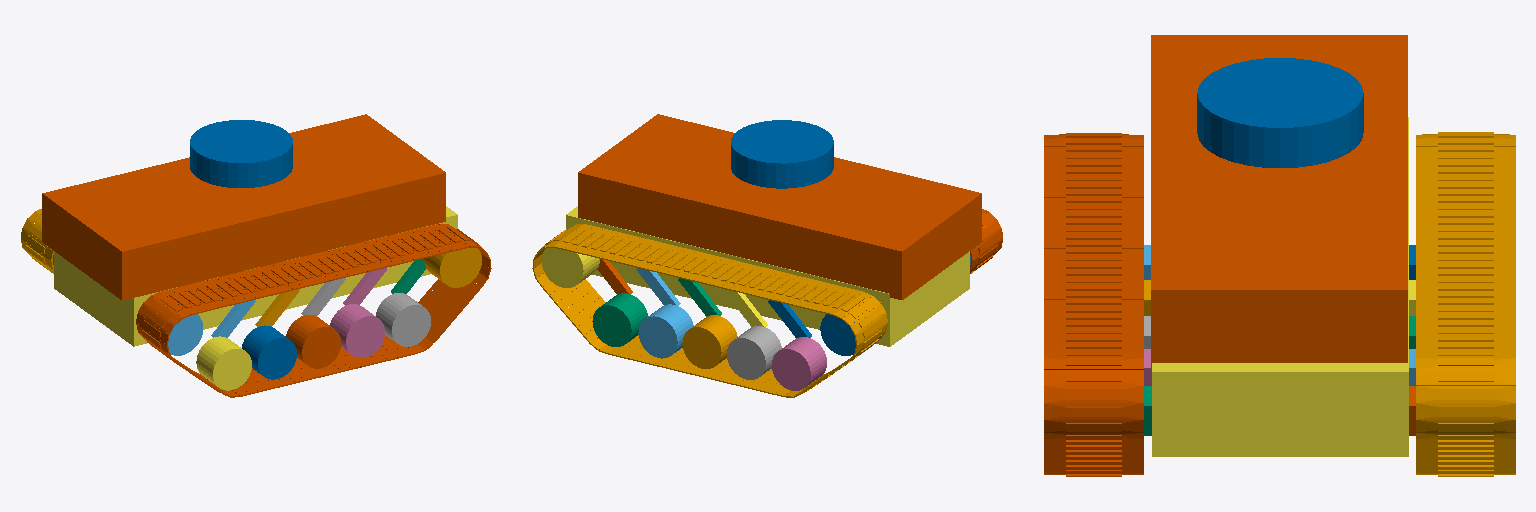
--- What the picture shows (computed from the rendered views, not written in the file) ---
Views: 3 orthographic renders of the robot side by side, from view 1: azimuth 30°, elevation 25°; view 2: azimuth 150°, elevation 25°; view 3: azimuth 270°, elevation 25°.
Model uwaba_prototype with 30 links and 29 joints (10 revolute, 2 continuous, 17 fixed), rooted at base_footprint, posed every joint at zero.
Links seen in each view (by area): view 1: support_link, Right_bumped_treads_link, scan_link, base_link, Right_wheel.001_link, Right_wheel.005_link, Right_wheel.002_link, Right_wheel.003_link, Right_wheel.004_link, Right_wheel.006_link, Left_bumped_treads_link, Right_wheel_sprocket_link (+5 smaller); view 2: support_link, Left_bumped_treads_link, base_link, scan_link, Left_wheel.001_link, Left_wheel.005_link, Left_wheel.002_link, Left_wheel.003_link, Left_wheel.004_link, Left_wheel.006_link, Right_bumped_treads_link, Left_wheel_sprocket_link (+5 smaller); view 3: support_link, Left_bumped_treads_link, Right_bumped_treads_link, base_link, scan_link.
Link boxes in pixels (x1,y1,x2,y2): support_link: (42, 114, 445, 300); Right_bumped_treads_link: (136, 224, 491, 397); scan_link: (190, 120, 292, 187); base_link: (54, 206, 457, 346); Right_wheel.001_link: (196, 336, 251, 390); Right_wheel.005_link: (376, 293, 430, 346); Right_wheel.002_link: (242, 325, 296, 379); Right_wheel.003_link: (286, 315, 340, 368); Right_wheel.004_link: (330, 304, 384, 357); Right_wheel.006_link: (424, 248, 481, 287); Left_bumped_treads_link: (21, 209, 53, 273); Right_wheel_sprocket_link: (157, 313, 202, 355); support_link: (578, 114, 981, 299); Left_bumped_treads_link: (532, 224, 887, 397); base_link: (566, 206, 969, 346); scan_link: (731, 120, 833, 188); Left_wheel.001_link: (772, 337, 826, 390); Left_wheel.005_link: (592, 293, 647, 346); Left_wheel.002_link: (727, 326, 781, 379); Left_wheel.003_link: (682, 315, 737, 368); Left_wheel.004_link: (638, 304, 693, 358); Left_wheel.006_link: (541, 248, 599, 287); Right_bumped_treads_link: (970, 209, 1002, 273); Left_wheel_sprocket_link: (820, 311, 869, 355); support_link: (1151, 35, 1407, 368); Left_bumped_treads_link: (1416, 132, 1515, 476); Right_bumped_treads_link: (1044, 133, 1143, 476); base_link: (1152, 117, 1408, 456); scan_link: (1197, 58, 1363, 167).
Bounding box of the posed robot: 0.2581 × 0.1936 × 0.1352 m (x, y, z).
2 mesh visuals loaded from 2 distinct referenced files (2 Collada DAE).

URDF robot description (uwaba_prototype):
<robot name="uwaba_prototype" version="1.0">
  <joint name="base_footprint_joint" type="fixed">
    <origin rpy="0.0000000000 0.0000000000 0.0000000000" xyz="0.0000000177 0.0000000048 0.0524450019"/>
    <parent link="base_footprint"/>
    <child link="base_link"/>
  </joint>
  <joint name="left_bumped_thread_base_joint" type="fixed">
    <origin rpy="0.0000000000 0.0000000000 0.0000000000" xyz="-0.0000073090 0.0762520012 -0.0125610121"/>
    <parent link="base_link"/>
    <child link="Left_bumped_treads_link"/>
  </joint>
  <joint name="left_sprocket_base_joint" type="continuous">
    <limit lower="0" upper="0" effort="0.0000000000" velocity="0.0000000000"/>
    <origin rpy="0.0000000000 0.0000000000 0.0000000000" xyz="-0.1065520449 0.0762500119 0.0002469979"/>
    <parent link="base_link"/>
    <child link="Left_wheel_sprocket_link"/>
    <axis xyz="0.0000000000 1.0000000000 0.0000000000"/>
  </joint>
  <joint name="left_suspension.001_base_joint" type="revolute">
    <limit lower="-0.1745329946" upper="0.1745329946" effort="0.0000000000" velocity="0.0000000000"/>
    <origin rpy="0.0000000000 0.0000000000 0.0000000000" xyz="0.0515604214 0.0552990314 -0.0151900463"/>
    <parent link="base_link"/>
    <child link="Left_small_wheels_frame.001_link"/>
    <axis xyz="0.0000000000 1.0000000000 0.0000000000"/>
  </joint>
  <joint name="left_suspension.002_base_joint" type="revolute">
    <limit lower="-0.1745329946" upper="0.1745329946" effort="0.0000000000" velocity="0.0000000000"/>
    <origin rpy="0.0000000000 0.0000000000 0.0000000000" xyz="0.0197104206 0.0552989979 -0.0151902959"/>
    <parent link="base_link"/>
    <child link="Left_small_wheels_frame.002_link"/>
    <axis xyz="0.0000000000 1.0000000000 0.0000000000"/>
  </joint>
  <joint name="left_suspension.003_base_joint" type="revolute">
    <limit lower="-0.1745329946" upper="0.1745329946" effort="0.0000000000" velocity="0.0000000000"/>
    <origin rpy="0.0000000000 0.0000000000 0.0000000000" xyz="-0.0153435795 0.0552989904 -0.0151902996"/>
    <parent link="base_link"/>
    <child link="Left_small_wheels_frame.003_link"/>
    <axis xyz="0.0000000000 1.0000000000 0.0000000000"/>
  </joint>
  <joint name="left_suspension.004_base_joint" type="revolute">
    <limit lower="-0.1745329946" upper="0.1745329946" effort="0.0000000000" velocity="0.0000000000"/>
    <origin rpy="0.0000000000 0.0000000000 0.0000000000" xyz="-0.0490785828 0.0552990314 -0.0151903071"/>
    <parent link="base_link"/>
    <child link="Left_small_wheels_frame.004_link"/>
    <axis xyz="0.0000000000 1.0000000000 0.0000000000"/>
  </joint>
  <joint name="left_suspension_base_joint" type="revolute">
    <limit lower="-0.1745329946" upper="0.1745329946" effort="0.0000000000" velocity="0.0000000000"/>
    <origin rpy="0.0000000000 0.0000000000 0.0000000000" xyz="0.0879334183 0.0552990426 -0.0151902996"/>
    <parent link="base_link"/>
    <child link="Left_small_wheels_frame_link"/>
    <axis xyz="0.0000000000 1.0000000000 0.0000000000"/>
  </joint>
  <joint name="left_wheel.001_suspension_joint" type="fixed">
    <origin rpy="-0.0000000000 0.0000000000 0.0000000000" xyz="-0.0191554390 0.0209509283 -0.0199896954"/>
    <parent link="Left_small_wheels_frame.004_link"/>
    <child link="Left_wheel.001_link"/>
  </joint>
  <joint name="left_wheel.002_suspension_joint" type="fixed">
    <origin rpy="-0.0000000000 0.0000000000 0.0000000000" xyz="-0.0184964389 0.0209509470 -0.0199897066"/>
    <parent link="Left_small_wheels_frame.003_link"/>
    <child link="Left_wheel.002_link"/>
  </joint>
  <joint name="left_wheel.003_suspension_joint" type="fixed">
    <origin rpy="-0.0000000000 0.0000000000 0.0000000000" xyz="-0.0197104495 0.0209509693 -0.0199897159"/>
    <parent link="Left_small_wheels_frame.002_link"/>
    <child link="Left_wheel.003_link"/>
  </joint>
  <joint name="left_wheel.004_suspension_joint" type="fixed">
    <origin rpy="-0.0000000000 0.0000000000 0.0000000000" xyz="-0.0179914646 0.0209509209 -0.0199899562"/>
    <parent link="Left_small_wheels_frame.001_link"/>
    <child link="Left_wheel.004_link"/>
  </joint>
  <joint name="left_wheel.005_suspension_joint" type="fixed">
    <origin rpy="-0.0000000000 0.0000000000 0.0000000000" xyz="-0.0192444250 0.0209509395 -0.0199897159"/>
    <parent link="Left_small_wheels_frame_link"/>
    <child link="Left_wheel.005_link"/>
  </joint>
  <joint name="left_wheel.006_base_joint" type="fixed">
    <origin rpy="0.0000000000 0.0000000000 0.0000000000" xyz="0.1065519945 0.0762500119 0.0002470016"/>
    <parent link="base_link"/>
    <child link="Left_wheel.006_link"/>
  </joint>
  <joint name="right_bumped_thread_base_joint" type="fixed">
    <origin rpy="0.0000000000 0.0000000000 0.0000000000" xyz="0.0000440089 -0.0765780109 -0.0125610270"/>
    <parent link="base_link"/>
    <child link="Right_bumped_treads_link"/>
  </joint>
  <joint name="right_sprocket_base_joint" type="continuous">
    <limit lower="0" upper="0" effort="0.0000000000" velocity="0.0000000000"/>
    <origin rpy="0.0000000000 0.0000000000 0.0000000000" xyz="-0.1065520300 -0.0762500215 0.0002470128"/>
    <parent link="base_link"/>
    <child link="Right_wheel_sprocket_link"/>
    <axis xyz="0.0000000000 1.0000000000 0.0000000000"/>
  </joint>
  <joint name="right_suspension.001_base_joint" type="revolute">
    <limit lower="-0.1745329946" upper="0.1745329946" effort="0.0000000000" velocity="0.0000000000"/>
    <origin rpy="0.0000000000 0.0000000000 0.0000000000" xyz="0.0515604140 -0.0552989628 -0.0151902884"/>
    <parent link="base_link"/>
    <child link="Right_small_wheels_frame.001_link"/>
    <axis xyz="0.0000000000 1.0000000000 0.0000000000"/>
  </joint>
  <joint name="right_suspension.002_base_joint" type="revolute">
    <limit lower="-0.1745329946" upper="0.1745329946" effort="0.0000000000" velocity="0.0000000000"/>
    <origin rpy="0.0000000000 0.0000000000 0.0000000000" xyz="0.0197104187 -0.0552990224 -0.0151902996"/>
    <parent link="base_link"/>
    <child link="Right_small_wheels_frame.002_link"/>
    <axis xyz="0.0000000000 1.0000000000 0.0000000000"/>
  </joint>
  <joint name="right_suspension.003_base_joint" type="revolute">
    <limit lower="-0.1745329946" upper="0.1745329946" effort="0.0000000000" velocity="0.0000000000"/>
    <origin rpy="0.0000000000 0.0000000000 0.0000000000" xyz="-0.0153435786 -0.0552990075 -0.0151903033"/>
    <parent link="base_link"/>
    <child link="Right_small_wheels_frame.003_link"/>
    <axis xyz="0.0000000000 1.0000000000 0.0000000000"/>
  </joint>
  <joint name="right_suspension.004_base_joint" type="revolute">
    <limit lower="-0.1745329946" upper="0.1745329946" effort="0.0000000000" velocity="0.0000000000"/>
    <origin rpy="0.0000000000 0.0000000000 0.0000000000" xyz="-0.0490785791 -0.0552989665 -0.0151903071"/>
    <parent link="base_link"/>
    <child link="Right_small_wheels_frame.004_link"/>
    <axis xyz="0.0000000000 1.0000000000 0.0000000000"/>
  </joint>
  <joint name="right_suspension_base_joint" type="revolute">
    <limit lower="-0.1745329946" upper="0.1745329946" effort="0.0000000000" velocity="0.0000000000"/>
    <origin rpy="0.0000000000 0.0000000000 0.0000000000" xyz="0.0879334183 -0.0552989665 -0.0151903033"/>
    <parent link="base_link"/>
    <child link="Right_small_wheels_frame_link"/>
    <axis xyz="0.0000000000 1.0000000000 0.0000000000"/>
  </joint>
  <joint name="right_wheel.001_suspension_joint" type="fixed">
    <origin rpy="0.0000000000 0.0000000000 0.0000000000" xyz="-0.0191554353 -0.0209510326 -0.0199897029"/>
    <parent link="Right_small_wheels_frame.004_link"/>
    <child link="Right_wheel.001_link"/>
  </joint>
  <joint name="right_wheel.002_suspension_joint" type="fixed">
    <origin rpy="0.0000000000 0.0000000000 0.0000000000" xyz="-0.0184964174 -0.0209510289 -0.0199897103"/>
    <parent link="Right_small_wheels_frame.003_link"/>
    <child link="Right_wheel.002_link"/>
  </joint>
  <joint name="right_wheel.003_suspension_joint" type="fixed">
    <origin rpy="0.0000000000 0.0000000000 0.0000000000" xyz="-0.0197104261 -0.0209509619 -0.0199897196"/>
    <parent link="Right_small_wheels_frame.002_link"/>
    <child link="Right_wheel.003_link"/>
  </joint>
  <joint name="right_wheel.004_suspension_joint" type="fixed">
    <origin rpy="0.0000000000 0.0000000000 0.0000000000" xyz="-0.0179914236 -0.0209510438 -0.0199897178"/>
    <parent link="Right_small_wheels_frame.001_link"/>
    <child link="Right_wheel.004_link"/>
  </joint>
  <joint name="right_wheel.005_suspension_joint" type="fixed">
    <origin rpy="0.0000000000 0.0000000000 0.0000000000" xyz="-0.0192444548 -0.0209510252 -0.0199896898"/>
    <parent link="Right_small_wheels_frame_link"/>
    <child link="Right_wheel.005_link"/>
  </joint>
  <joint name="right_wheel.006_base_joint" type="fixed">
    <origin rpy="0.0000000000 0.0000000000 0.0000000000" xyz="0.1065519945 -0.0762500066 0.0002470054"/>
    <parent link="base_link"/>
    <child link="Right_wheel.006_link"/>
  </joint>
  <joint name="scan_base_joint" type="fixed">
    <origin rpy="0.0000000000 0.0000000000 0.0000000000" xyz="-0.0110695819 -0.0000000043 0.0737789795"/>
    <parent link="base_link"/>
    <child link="scan_link"/>
  </joint>
  <joint name="support_base_joint" type="fixed">
    <origin rpy="0.0000000000 0.0000000000 0.0000000000" xyz="-0.0090935585 -0.0004338986 0.0344425142"/>
    <parent link="base_link"/>
    <child link="support_link"/>
  </joint>
  <link name="Left_bumped_treads_link">
    <collision name="Left_bumped_treads_collision">
      <origin rpy="0.0000000000 0.0000000000 0.0000000000" xyz="0.0000002912 -0.0000000075 0.0000000112"/>
      <geometry>
        <mesh filename="../meshes/dae/right.tracks.dae" scale="1.0000000000 1.0000000000 1.0000000000"/>
      </geometry>
    </collision>
    <visual name="Left_bumped_treads">
      <origin rpy="0.0000000000 0.0000000000 0.0000000000" xyz="0.0000000000 -0.0000000075 0.0000000000"/>
      <geometry>
        <mesh filename="../meshes/dae/right.tracks.dae" scale="1.0000000000 1.0000000000 1.0000000000"/>
      </geometry>
    </visual>
  </link>
  <link name="Left_small_wheels_frame.001_link">
    <collision name="Left_small_wheels_frame.001_collision">
      <origin rpy="0.0000000000 -0.7853982406 0.0000000000" xyz="-0.0084856115 0.0000000000 -0.0084856041"/>
      <geometry>
        <box size="0.0362100005 0.0048000002 0.0085000005"/>
      </geometry>
    </collision>
    <inertial>
      <inertia ixx="0.0000005956" ixy="-0.0000000000" ixz="-0.0000005162" iyy="0.0000011528" iyz="-0.0000000000" izz="0.0000005956"/>
      <origin rpy="0.0000000000 0.0000000000 0.0000000000" xyz="-0.0000000075 -0.0000000037 0.0000000000"/>
      <mass value="0.0099999998"/>
    </inertial>
    <visual name="Left_small_wheels_frame.001">
      <origin rpy="0.0000000000 -0.7853982406 0.0000000000" xyz="-0.0000000075 -0.0000000037 0.0000000000"/>
      <geometry>
        <box size="0.0362099968 0.0048000002 0.0084999995"/>
      </geometry>
    </visual>
  </link>
  <link name="Left_small_wheels_frame.002_link">
    <collision name="Left_small_wheels_frame.002_collision">
      <origin rpy="-0.0000000000 -0.7853982406 0.0000000000" xyz="-0.0084856041 0.0000000000 -0.0084856078"/>
      <geometry>
        <box size="0.0362099968 0.0048000016 0.0085000005"/>
      </geometry>
    </collision>
    <inertial>
      <inertia ixx="0.0000005956" ixy="-0.0000000000" ixz="-0.0000005162" iyy="0.0000011528" iyz="-0.0000000000" izz="0.0000005956"/>
      <origin rpy="0.0000000000 0.0000000000 0.0000000000" xyz="0.0000000000 0.0000000000 0.0000000000"/>
      <mass value="0.0099999998"/>
    </inertial>
    <visual name="Left_small_wheels_frame.002">
      <origin rpy="-0.0000000000 -0.7853982406 0.0000000000" xyz="0.0000000000 0.0000000000 0.0000000000"/>
      <geometry>
        <box size="0.0362099968 0.0048000021 0.0085000005"/>
      </geometry>
    </visual>
  </link>
  <link name="Left_small_wheels_frame.003_link">
    <collision name="Left_small_wheels_frame.003_collision">
      <origin rpy="-0.0000000000 -0.7853982406 0.0000000000" xyz="-0.0084852800 0.0000000075 -0.0084852818"/>
      <geometry>
        <box size="0.0362099968 0.0047999993 0.0085000005"/>
      </geometry>
    </collision>
    <inertial>
      <inertia ixx="0.0000005956" ixy="-0.0000000000" ixz="-0.0000005162" iyy="0.0000011528" iyz="-0.0000000000" izz="0.0000005956"/>
      <origin rpy="0.0000000000 0.0000000000 0.0000000000" xyz="0.0000000000 0.0000000000 0.0000000000"/>
      <mass value="0.0099999998"/>
    </inertial>
    <visual name="Left_small_wheels_frame.003">
      <origin rpy="-0.0000000000 -0.7853982406 0.0000000000" xyz="0.0000000000 0.0000000000 0.0000000000"/>
      <geometry>
        <box size="0.0362099931 0.0047999993 0.0084999995"/>
      </geometry>
    </visual>
  </link>
  <link name="Left_small_wheels_frame.004_link">
    <collision name="Left_small_wheels_frame.004_collision">
      <origin rpy="-0.0000000000 -0.7853982406 -0.0000000000" xyz="-0.0084852464 0.0000000037 -0.0084852353"/>
      <geometry>
        <box size="0.0362100005 0.0048000002 0.0085000005"/>
      </geometry>
    </collision>
    <inertial>
      <inertia ixx="0.0000005956" ixy="0.0000000000" ixz="-0.0000005162" iyy="0.0000011528" iyz="0.0000000000" izz="0.0000005956"/>
      <origin rpy="0.0000000000 0.0000000000 0.0000000000" xyz="-0.0000000075 0.0000000075 0.0000000037"/>
      <mass value="0.0099999998"/>
    </inertial>
    <visual name="Left_small_wheels_frame.004">
      <origin rpy="-0.0000000000 -0.7853982406 -0.0000000000" xyz="-0.0000000075 0.0000000075 0.0000000037"/>
      <geometry>
        <box size="0.0362100005 0.0048000002 0.0085000005"/>
      </geometry>
    </visual>
  </link>
  <link name="Left_small_wheels_frame_link">
    <collision name="Left_small_wheels_frame_collision">
      <origin rpy="0.0000000000 -0.7853982406 0.0000000000" xyz="-0.0084855407 0.0000000000 -0.0084855407"/>
      <geometry>
        <box size="0.0362100005 0.0048000012 0.0085000005"/>
      </geometry>
    </collision>
    <inertial>
      <inertia ixx="0.0000005956" ixy="-0.0000000000" ixz="-0.0000005162" iyy="0.0000011528" iyz="-0.0000000000" izz="0.0000005956"/>
      <origin rpy="0.0000000000 0.0000000000 0.0000000000" xyz="0.0000000000 0.0000000000 0.0000000000"/>
      <mass value="0.0099999998"/>
    </inertial>
    <visual name="Left_small_wheels_frame">
      <origin rpy="0.0000000000 -0.7853982406 0.0000000000" xyz="0.0000000000 0.0000000000 0.0000000000"/>
      <geometry>
        <box size="0.0362100005 0.0048000012 0.0085000005"/>
      </geometry>
    </visual>
  </link>
  <link name="Left_wheel.001_link">
    <collision name="Left_wheel.001_collision">
      <origin rpy="1.5707962513 0.0000000000 0.0000000000" xyz="0.0000000075 0.0000000000 -0.0000000037"/>
      <geometry>
        <cylinder radius="0.0149999997" length="0.0219299998"/>
      </geometry>
    </collision>
    <inertial>
      <inertia ixx="0.0000048164" ixy="-0.0000000000" ixz="0.0000000000" iyy="0.0000056250" iyz="-0.0000000000" izz="0.0000048164"/>
      <origin rpy="0.0000000000 0.0000000000 0.0000000000" xyz="0.0000000075 0.0000000000 -0.0000000056"/>
      <mass value="0.0500000007"/>
    </inertial>
    <visual name="Left_wheel.001">
      <origin rpy="1.5707962513 0.0000000000 0.0000000000" xyz="0.0000000075 0.0000000000 -0.0000000056"/>
      <geometry>
        <cylinder radius="0.0149999978" length="0.0219299998"/>
      </geometry>
    </visual>
  </link>
  <link name="Left_wheel.002_link">
    <collision name="Left_wheel.002_collision">
      <origin rpy="1.5707962513 0.0000000000 0.0000000000" xyz="0.0000000000 0.0000000149 0.0000000019"/>
      <geometry>
        <cylinder radius="0.0149999969" length="0.0219299998"/>
      </geometry>
    </collision>
    <inertial>
      <inertia ixx="0.0000048164" ixy="-0.0000000000" ixz="0.0000000000" iyy="0.0000056250" iyz="-0.0000000000" izz="0.0000048164"/>
      <origin rpy="0.0000000000 0.0000000000 0.0000000000" xyz="0.0000000000 0.0000000149 0.0000000019"/>
      <mass value="0.0500000007"/>
    </inertial>
    <visual name="Left_wheel.002">
      <origin rpy="1.5707962513 0.0000000000 0.0000000000" xyz="0.0000000000 0.0000000149 0.0000000019"/>
      <geometry>
        <cylinder radius="0.0149999950" length="0.0219299998"/>
      </geometry>
    </visual>
  </link>
  <link name="Left_wheel.003_link">
    <collision name="Left_wheel.003_collision">
      <origin rpy="1.5707962513 0.0000000000 0.0000000000" xyz="0.0000000000 -0.0000000075 0.0000000019"/>
      <geometry>
        <cylinder radius="0.0149999987" length="0.0219299998"/>
      </geometry>
    </collision>
    <inertial>
      <inertia ixx="0.0000048164" ixy="-0.0000000000" ixz="-0.0000000000" iyy="0.0000056250" iyz="-0.0000000000" izz="0.0000048164"/>
      <origin rpy="0.0000000000 0.0000000000 0.0000000000" xyz="0.0000000000 -0.0000000075 0.0000000019"/>
      <mass value="0.0500000007"/>
    </inertial>
    <visual name="Left_wheel.003">
      <origin rpy="1.5707962513 0.0000000000 0.0000000000" xyz="0.0000000000 -0.0000000075 0.0000000019"/>
      <geometry>
        <cylinder radius="0.0149999987" length="0.0219300017"/>
      </geometry>
    </visual>
  </link>
  <link name="Left_wheel.004_link">
    <collision name="Left_wheel.004_collision">
      <origin rpy="1.5707962513 0.0000000000 0.0000000000" xyz="-0.0000000037 0.0000000075 0.0000000019"/>
      <geometry>
        <cylinder radius="0.0150000006" length="0.0219299998"/>
      </geometry>
    </collision>
    <inertial>
      <inertia ixx="0.0000048164" ixy="-0.0000000000" ixz="-0.0000000000" iyy="0.0000056250" iyz="-0.0000000000" izz="0.0000048164"/>
      <origin rpy="0.0000000000 0.0000000000 0.0000000000" xyz="-0.0000000037 0.0000000075 0.0000000019"/>
      <mass value="0.0500000007"/>
    </inertial>
    <visual name="Left_wheel.004">
      <origin rpy="1.5707962513 0.0000000000 0.0000000000" xyz="-0.0000000037 0.0000000075 0.0000000019"/>
      <geometry>
        <cylinder radius="0.0149999987" length="0.0219299998"/>
      </geometry>
    </visual>
  </link>
  <link name="Left_wheel.005_link">
    <collision name="Left_wheel.005_collision">
      <origin rpy="1.5707962513 0.0000000000 0.0000000000" xyz="0.0000000000 0.0000000075 0.0000000019"/>
      <geometry>
        <cylinder radius="0.0150000015" length="0.0219299998"/>
      </geometry>
    </collision>
    <inertial>
      <inertia ixx="0.0000048164" ixy="-0.0000000000" ixz="-0.0000000000" iyy="0.0000056250" iyz="-0.0000000000" izz="0.0000048164"/>
      <origin rpy="0.0000000000 0.0000000000 0.0000000000" xyz="0.0000000000 0.0000000075 0.0000000019"/>
      <mass value="0.0500000007"/>
    </inertial>
    <visual name="Left_wheel.005">
      <origin rpy="1.5707962513 0.0000000000 0.0000000000" xyz="0.0000000000 0.0000000075 0.0000000019"/>
      <geometry>
        <cylinder radius="0.0150000025" length="0.0219300017"/>
      </geometry>
    </visual>
  </link>
  <link name="Left_wheel.006_link">
    <collision name="Left_wheel.006_collision">
      <origin rpy="1.5707962513 0.0000000000 0.0000000000" xyz="-0.0000000075 0.0000000000 -0.0000000037"/>
      <geometry>
        <cylinder radius="0.0161000043" length="0.0219299998"/>
      </geometry>
    </collision>
    <inertial>
      <inertia ixx="0.0000078660" ixy="0.0000000000" ixz="0.0000000000" iyy="0.0000097204" iyz="-0.0000000000" izz="0.0000078660"/>
      <origin rpy="0.0000000000 0.0000000000 0.0000000000" xyz="-0.0000000075 0.0000000000 -0.0000000037"/>
      <mass value="0.0750000030"/>
    </inertial>
    <visual name="Left_wheel.006">
      <origin rpy="1.5707962513 0.0000000000 0.0000000000" xyz="-0.0000000075 0.0000000000 -0.0000000037"/>
      <geometry>
        <cylinder radius="0.0161000006" length="0.0219299980"/>
      </geometry>
    </visual>
  </link>
  <link name="Left_wheel_sprocket_link">
    <collision name="Left_wheel_sprocket_collision">
      <origin rpy="1.5707962513 0.0000000000 0.0000000000" xyz="0.0000000149 0.0000000000 -0.0000000075"/>
      <geometry>
        <cylinder radius="0.0161000025" length="0.0219299998"/>
      </geometry>
    </collision>
    <inertial>
      <inertia ixx="0.0000078660" ixy="0.0000000000" ixz="0.0000000000" iyy="0.0000097204" iyz="-0.0000000000" izz="0.0000078660"/>
      <origin rpy="0.0000000000 0.0000000000 0.0000000000" xyz="0.0000000149 0.0000000000 -0.0000000075"/>
      <mass value="0.0750000030"/>
    </inertial>
    <visual name="Left_wheel_sprocket">
      <origin rpy="1.5707962513 0.0000000000 0.0000000000" xyz="0.0000000149 0.0000000000 -0.0000000075"/>
      <geometry>
        <cylinder radius="0.0161000006" length="0.0219299980"/>
      </geometry>
    </visual>
  </link>
  <link name="Right_bumped_treads_link">
    <collision name="Right_bumped_treads_collision">
      <origin rpy="0.0000000000 0.0000000000 0.0000000000" xyz="-0.0000000266 0.0000000075 0.0000000261"/>
      <geometry>
        <mesh filename="../meshes/dae/left.tracks.dae" scale="1.0000000000 1.0000000000 1.0000000000"/>
      </geometry>
    </collision>
    <visual name="Right_bumped_treads">
      <origin rpy="0.0000000000 0.0000000000 0.0000000000" xyz="-0.0000000000 0.0000000000 0.0000000000"/>
      <geometry>
        <mesh filename="../meshes/dae/left.tracks.dae" scale="1.0000000000 1.0000000000 1.0000000000"/>
      </geometry>
    </visual>
  </link>
  <link name="Right_small_wheels_frame.001_link">
    <collision name="Right_small_wheels_frame.001_collision">
      <origin rpy="-0.0000000000 -0.7853982406 0.0000000000" xyz="-0.0084855929 -0.0000000075 -0.0084855966"/>
      <geometry>
        <box size="0.0362099968 0.0048000072 0.0085000005"/>
      </geometry>
    </collision>
    <inertial>
      <inertia ixx="0.0000005956" ixy="-0.0000000000" ixz="-0.0000005162" iyy="0.0000011528" iyz="-0.0000000000" izz="0.0000005956"/>
      <origin rpy="0.0000000000 0.0000000000 0.0000000000" xyz="0.0000000000 -0.0000000037 0.0000000037"/>
      <mass value="0.0099999998"/>
    </inertial>
    <visual name="Right_small_wheels_frame.001">
      <origin rpy="-0.0000000000 -0.7853982406 0.0000000000" xyz="0.0000000000 -0.0000000037 0.0000000037"/>
      <geometry>
        <box size="0.0362099968 0.0048000072 0.0085000005"/>
      </geometry>
    </visual>
  </link>
  <link name="Right_small_wheels_frame.002_link">
    <collision name="Right_small_wheels_frame.002_collision">
      <origin rpy="0.0000000000 -0.7853982406 0.0000000000" xyz="-0.0084856004 -0.0000000075 -0.0084856041"/>
      <geometry>
        <box size="0.0362100005 0.0048000016 0.0085000005"/>
      </geometry>
    </collision>
    <inertial>
      <inertia ixx="0.0000005956" ixy="-0.0000000000" ixz="-0.0000005162" iyy="0.0000011528" iyz="-0.0000000000" izz="0.0000005956"/>
      <origin rpy="0.0000000000 0.0000000000 0.0000000000" xyz="0.0000000019 -0.0000000112 0.0000000000"/>
      <mass value="0.0099999998"/>
    </inertial>
    <visual name="Right_small_wheels_frame.002">
      <origin rpy="0.0000000000 -0.7853982406 0.0000000000" xyz="0.0000000019 -0.0000000112 0.0000000000"/>
      <geometry>
        <box size="0.0362100005 0.0048000021 0.0085000005"/>
      </geometry>
    </visual>
  </link>
  <link name="Right_small_wheels_frame.003_link">
    <collision name="Right_small_wheels_frame.003_collision">
      <origin rpy="-0.0000000000 -0.7853982406 0.0000000000" xyz="-0.0084855026 0.0000000000 -0.0084855054"/>
      <geometry>
        <box size="0.0362100005 0.0047999998 0.0085000005"/>
      </geometry>
    </collision>
    <inertial>
      <inertia ixx="0.0000005956" ixy="-0.0000000000" ixz="-0.0000005162" iyy="0.0000011528" iyz="-0.0000000000" izz="0.0000005956"/>
      <origin rpy="0.0000000000 0.0000000000 0.0000000000" xyz="0.0000000009 0.0000000037 -0.0000000037"/>
      <mass value="0.0099999998"/>
    </inertial>
    <visual name="Right_small_wheels_frame.003">
      <origin rpy="-0.0000000000 -0.7853982406 0.0000000000" xyz="0.0000000009 0.0000000037 -0.0000000037"/>
      <geometry>
        <box size="0.0362100005 0.0047999998 0.0085000005"/>
      </geometry>
    </visual>
  </link>
  <link name="Right_small_wheels_frame.004_link">
    <collision name="Right_small_wheels_frame.004_collision">
      <origin rpy="-0.0000000000 -0.7853982406 -0.0000000000" xyz="-0.0084852390 0.0000000000 -0.0084852353"/>
      <geometry>
        <box size="0.0362100005 0.0048000002 0.0085000005"/>
      </geometry>
    </collision>
    <inertial>
      <inertia ixx="0.0000005956" ixy="0.0000000000" ixz="-0.0000005162" iyy="0.0000011528" iyz="0.0000000000" izz="0.0000005956"/>
      <origin rpy="0.0000000000 0.0000000000 0.0000000000" xyz="-0.0000000037 0.0000000000 0.0000000000"/>
      <mass value="0.0099999998"/>
    </inertial>
    <visual name="Right_small_wheels_frame.004">
      <origin rpy="-0.0000000000 -0.7853982406 -0.0000000000" xyz="-0.0000000037 0.0000000000 0.0000000000"/>
      <geometry>
        <box size="0.0362100005 0.0048000002 0.0085000005"/>
      </geometry>
    </visual>
  </link>
  <link name="Right_small_wheels_frame_link">
    <collision name="Right_small_wheels_frame_collision">
      <origin rpy="-0.0000000000 -0.7853982406 0.0000000000" xyz="-0.0084855556 0.0000000037 -0.0084855426"/>
      <geometry>
        <box size="0.0362100005 0.0048000007 0.0085000005"/>
      </geometry>
    </collision>
    <inertial>
      <inertia ixx="0.0000005956" ixy="-0.0000000000" ixz="-0.0000005162" iyy="0.0000011528" iyz="-0.0000000000" izz="0.0000005956"/>
      <origin rpy="0.0000000000 0.0000000000 0.0000000000" xyz="-0.0000000075 0.0000000000 0.0000000000"/>
      <mass value="0.0099999998"/>
    </inertial>
    <visual name="Right_small_wheels_frame">
      <origin rpy="-0.0000000000 -0.7853982406 0.0000000000" xyz="-0.0000000075 0.0000000000 0.0000000000"/>
      <geometry>
        <box size="0.0362100005 0.0048000007 0.0085000005"/>
      </geometry>
    </visual>
  </link>
  <link name="Right_wheel.001_link">
    <collision name="Right_wheel.001_collision">
      <origin rpy="-1.5707960129 -0.0000000000 0.0000000000" xyz="0.0000000000 0.0000000000 -0.0000000019"/>
      <geometry>
        <cylinder radius="0.0149999997" length="0.0219299980"/>
      </geometry>
    </collision>
    <inertial>
      <inertia ixx="0.0000048164" ixy="-0.0000000000" ixz="-0.0000000000" iyy="0.0000056250" iyz="0.0000000000" izz="0.0000048164"/>
      <origin rpy="0.0000000000 0.0000000000 0.0000000000" xyz="0.0000000000 0.0000000000 -0.0000000019"/>
      <mass value="0.0500000007"/>
    </inertial>
    <visual name="Right_wheel.001">
      <origin rpy="-1.5707960129 -0.0000000000 0.0000000000" xyz="0.0000000000 0.0000000000 -0.0000000019"/>
      <geometry>
        <cylinder radius="0.0149999997" length="0.0219299980"/>
      </geometry>
    </visual>
  </link>
  <link name="Right_wheel.002_link">
    <collision name="Right_wheel.002_collision">
      <origin rpy="-1.5707960129 0.0000000000 0.0000000000" xyz="0.0000000037 0.0000000000 -0.0000000019"/>
      <geometry>
        <cylinder radius="0.0150000006" length="0.0219299980"/>
      </geometry>
    </collision>
    <inertial>
      <inertia ixx="0.0000048164" ixy="-0.0000000000" ixz="-0.0000000000" iyy="0.0000056250" iyz="0.0000000000" izz="0.0000048164"/>
      <origin rpy="0.0000000000 0.0000000000 0.0000000000" xyz="0.0000000037 0.0000000000 -0.0000000019"/>
      <mass value="0.0500000007"/>
    </inertial>
    <visual name="Right_wheel.002">
      <origin rpy="-1.5707960129 0.0000000000 0.0000000000" xyz="0.0000000037 0.0000000000 -0.0000000019"/>
      <geometry>
        <cylinder radius="0.0150000006" length="0.0219299980"/>
      </geometry>
    </visual>
  </link>
  <link name="Right_wheel.003_link">
    <collision name="Right_wheel.003_collision">
      <origin rpy="-1.5707960129 -0.0000000000 0.0000000000" xyz="-0.0000000009 0.0000000000 0.0000000000"/>
      <geometry>
        <cylinder radius="0.0149999997" length="0.0219299998"/>
      </geometry>
    </collision>
    <inertial>
      <inertia ixx="0.0000048164" ixy="-0.0000000000" ixz="-0.0000000000" iyy="0.0000056250" iyz="0.0000000000" izz="0.0000048164"/>
      <origin rpy="0.0000000000 0.0000000000 0.0000000000" xyz="-0.0000000000 0.0000000000 0.0000000000"/>
      <mass value="0.0500000007"/>
    </inertial>
    <visual name="Right_wheel.003">
      <origin rpy="-1.5707960129 -0.0000000000 0.0000000000" xyz="-0.0000000000 0.0000000000 0.0000000000"/>
      <geometry>
        <cylinder radius="0.0149999997" length="0.0219299998"/>
      </geometry>
    </visual>
  </link>
  <link name="Right_wheel.004_link">
    <collision name="Right_wheel.004_collision">
      <origin rpy="-1.5707960129 -0.0000000000 0.0000000000" xyz="0.0000000000 0.0000000149 0.0000000000"/>
      <geometry>
        <cylinder radius="0.0150000006" length="0.0219299980"/>
      </geometry>
    </collision>
    <inertial>
      <inertia ixx="0.0000048164" ixy="0.0000000000" ixz="0.0000000000" iyy="0.0000056250" iyz="0.0000000000" izz="0.0000048164"/>
      <origin rpy="0.0000000000 0.0000000000 0.0000000000" xyz="0.0000000000 0.0000000149 0.0000000000"/>
      <mass value="0.0500000007"/>
    </inertial>
    <visual name="Right_wheel.004">
      <origin rpy="-1.5707960129 -0.0000000000 0.0000000000" xyz="0.0000000000 0.0000000149 0.0000000000"/>
      <geometry>
        <cylinder radius="0.0150000006" length="0.0219299980"/>
      </geometry>
    </visual>
  </link>
  <link name="Right_wheel.005_link">
    <collision name="Right_wheel.005_collision">
      <origin rpy="-1.5707960129 -0.0000000000 0.0000000000" xyz="-0.0000000149 0.0000000075 0.0000000000"/>
      <geometry>
        <cylinder radius="0.0150000006" length="0.0219299980"/>
      </geometry>
    </collision>
    <inertial>
      <inertia ixx="0.0000048164" ixy="-0.0000000000" ixz="-0.0000000000" iyy="0.0000056250" iyz="0.0000000000" izz="0.0000048164"/>
      <origin rpy="0.0000000000 0.0000000000 0.0000000000" xyz="-0.0000000149 0.0000000075 0.0000000000"/>
      <mass value="0.0500000007"/>
    </inertial>
    <visual name="Right_wheel.005">
      <origin rpy="-1.5707960129 -0.0000000000 0.0000000000" xyz="-0.0000000149 0.0000000075 0.0000000000"/>
      <geometry>
        <cylinder radius="0.0150000006" length="0.0219299980"/>
      </geometry>
    </visual>
  </link>
  <link name="Right_wheel.006_link">
    <collision name="Right_wheel.006_collision">
      <origin rpy="-1.5707956553 0.0000000000 0.0000000000" xyz="0.0000000000 0.0000000000 0.0000000000"/>
      <geometry>
        <cylinder radius="0.0161000006" length="0.0219300017"/>
      </geometry>
    </collision>
    <inertial>
      <inertia ixx="0.0000078660" ixy="0.0000000000" ixz="0.0000000000" iyy="0.0000097204" iyz="0.0000000000" izz="0.0000078660"/>
      <origin rpy="0.0000000000 0.0000000000 0.0000000000" xyz="0.0000000000 0.0000000000 0.0000000000"/>
      <mass value="0.0750000030"/>
    </inertial>
    <visual name="Right_wheel.006">
      <origin rpy="-1.5707956553 0.0000000000 0.0000000000" xyz="0.0000000000 0.0000000000 0.0000000000"/>
      <geometry>
        <cylinder radius="0.0161000006" length="0.0219300017"/>
      </geometry>
    </visual>
  </link>
  <link name="Right_wheel_sprocket_link">
    <collision name="Right_wheel_sprocket_collision">
      <origin rpy="-1.5707956553 0.0000000000 0.0000000000" xyz="0.0000000075 0.0000000075 0.0000000000"/>
      <geometry>
        <cylinder radius="0.0161000006" length="0.0219300017"/>
      </geometry>
    </collision>
    <inertial>
      <inertia ixx="0.0000078660" ixy="0.0000000000" ixz="0.0000000000" iyy="0.0000097204" iyz="0.0000000000" izz="0.0000078660"/>
      <origin rpy="0.0000000000 0.0000000000 0.0000000000" xyz="0.0000000075 0.0000000075 0.0000000000"/>
      <mass value="0.0750000030"/>
    </inertial>
    <visual name="Right_wheel_sprocket">
      <origin rpy="-1.5707956553 0.0000000000 0.0000000000" xyz="0.0000000075 0.0000000075 0.0000000000"/>
      <geometry>
        <cylinder radius="0.0160999987" length="0.0219299998"/>
      </geometry>
    </visual>
  </link>
  <link name="base_footprint"/>
  <link name="base_link">
    <collision name="base_collision">
      <origin rpy="0.0000000000 0.0000000000 0.0000000000" xyz="0.0000000000 0.0000000000 0.0000000000"/>
      <geometry>
        <box size="0.2480000407 0.1058000177 0.0387500003"/>
      </geometry>
    </collision>
    <inertial>
      <inertia ixx="0.0010579339" ixy="0.0000000000" ixz="0.0000000000" iyy="0.0052504652" iyz="0.0000000000" izz="0.0060581387"/>
      <origin rpy="0.0000000000 0.0000000000 0.0000000000" xyz="0.0000000000 0.0000000000 0.0000000000"/>
      <mass value="1.0000000000"/>
    </inertial>
    <visual name="base">
      <origin rpy="0.0000000000 0.0000000000 0.0000000000" xyz="0.0000000000 0.0000000000 0.0000000000"/>
      <geometry>
        <box size="0.2480000407 0.1058000177 0.0387500003"/>
      </geometry>
    </visual>
  </link>
  <link name="scan_link">
    <collision name="scan_collision">
      <origin rpy="0.0000000000 0.0000000000 0.0000000000" xyz="0.0000000000 -0.0000000000 0.0000000000"/>
      <geometry>
        <cylinder radius="0.0341599993" length="0.0183099993"/>
      </geometry>
    </collision>
    <inertial>
      <inertia ixx="0.0000799161" ixy="0.0000000000" ixz="0.0000000000" iyy="0.0000799161" iyz="0.0000000000" izz="0.0001458632"/>
      <origin rpy="0.0000000000 0.0000000000 0.0000000000" xyz="0.0000000000 -0.0000000000 0.0000000000"/>
      <mass value="0.2500000000"/>
    </inertial>
    <visual name="scan">
      <origin rpy="0.0000000000 0.0000000000 0.0000000000" xyz="0.0000000000 -0.0000000000 0.0000000000"/>
      <geometry>
        <cylinder radius="0.0341599993" length="0.0183099993"/>
      </geometry>
    </visual>
  </link>
  <link name="support_link">
    <collision name="support_collision">
      <origin rpy="0.0000000000 0.0000000000 0.0000000000" xyz="-0.0000004601 -0.0000001062 0.0000004768"/>
      <geometry>
        <mesh filename="../meshes/dae/Cube.002.dae" scale="1.0000000000 1.0000000000 0.9999898672"/>
      </geometry>
    </collision>
    <inertial>
      <inertia ixx="0.0001558814" ixy="0.0000000000" ixz="0.0000000000" iyy="0.0007847610" iyz="0.0000000000" izz="0.0009087205"/>
      <origin rpy="0.0000000000 0.0000000000 0.0000000000" xyz="-0.0000000011 0.0000000000 -0.0000000175"/>
      <mass value="0.1500000060"/>
    </inertial>
    <visual name="support">
      <origin rpy="0.0000000000 0.0000000000 0.0000000000" xyz="-0.0000000019 0.0000000000 -0.0000000075"/>
      <geometry>
        <box size="0.2480000257 0.1058000028 0.0357334018"/>
      </geometry>
    </visual>
  </link>
</robot>
